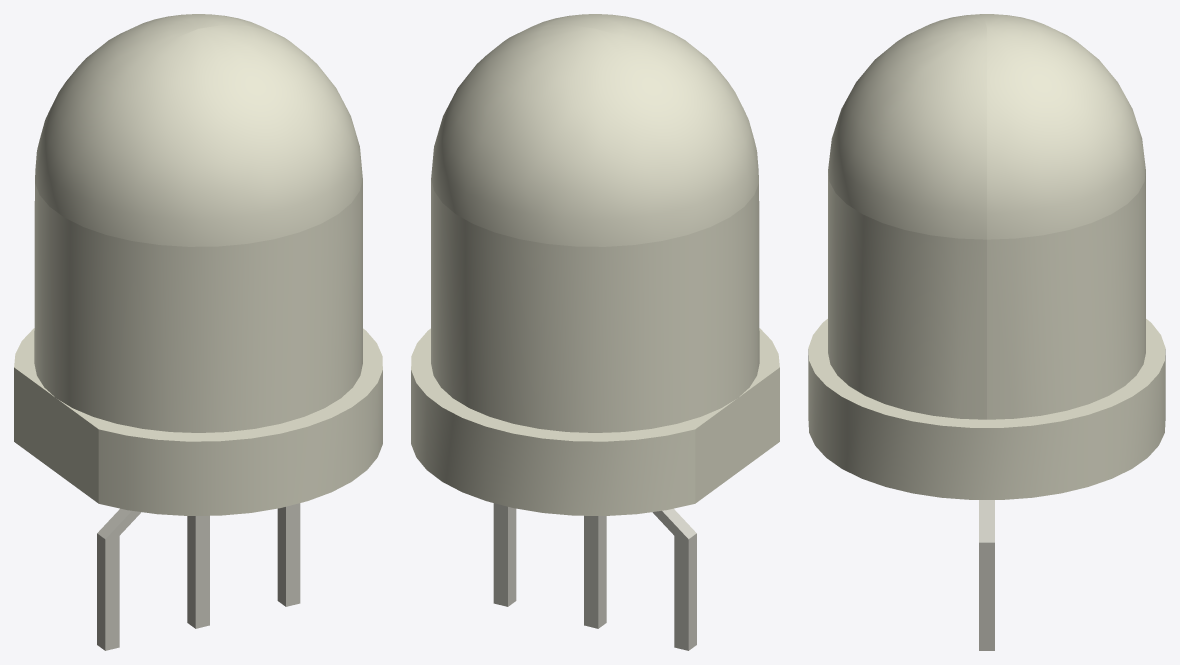
The model's file is kc-led_d8.0mm-3.glb.
3 views of the same model, side by side, from view 1: azimuth 30°, elevation 25°; view 2: azimuth 150°, elevation 25°; view 3: azimuth 270°, elevation 25° (orthographic). The views are drawn at different scales.
Visible parts, largest first — view 1: 0.75_0.75_0.6666666666666666_0, 0.6666666666666666_0.6666666666666666_0.5833333333333334_0.8; view 2: 0.75_0.75_0.6666666666666666_0, 0.6666666666666666_0.6666666666666666_0.5833333333333334_0.8; view 3: 0.75_0.75_0.6666666666666666_0, 0.6666666666666666_0.6666666666666666_0.5833333333333334_0.8.
Boxes of the visible parts, <box> form: 0.75_0.75_0.6666666666666666_0: <box>14,14,382,515</box>; 0.6666666666666666_0.6666666666666666_0.5833333333333334_0.8: <box>97,503,300,650</box>; 0.75_0.75_0.6666666666666666_0: <box>411,14,779,515</box>; 0.6666666666666666_0.6666666666666666_0.5833333333333334_0.8: <box>493,503,696,650</box>; 0.75_0.75_0.6666666666666666_0: <box>808,14,1165,499</box>; 0.6666666666666666_0.6666666666666666_0.5833333333333334_0.8: <box>979,500,994,650</box>.
Size of the model in its own units: 0.8484 by 1.6 by 0.8982.
